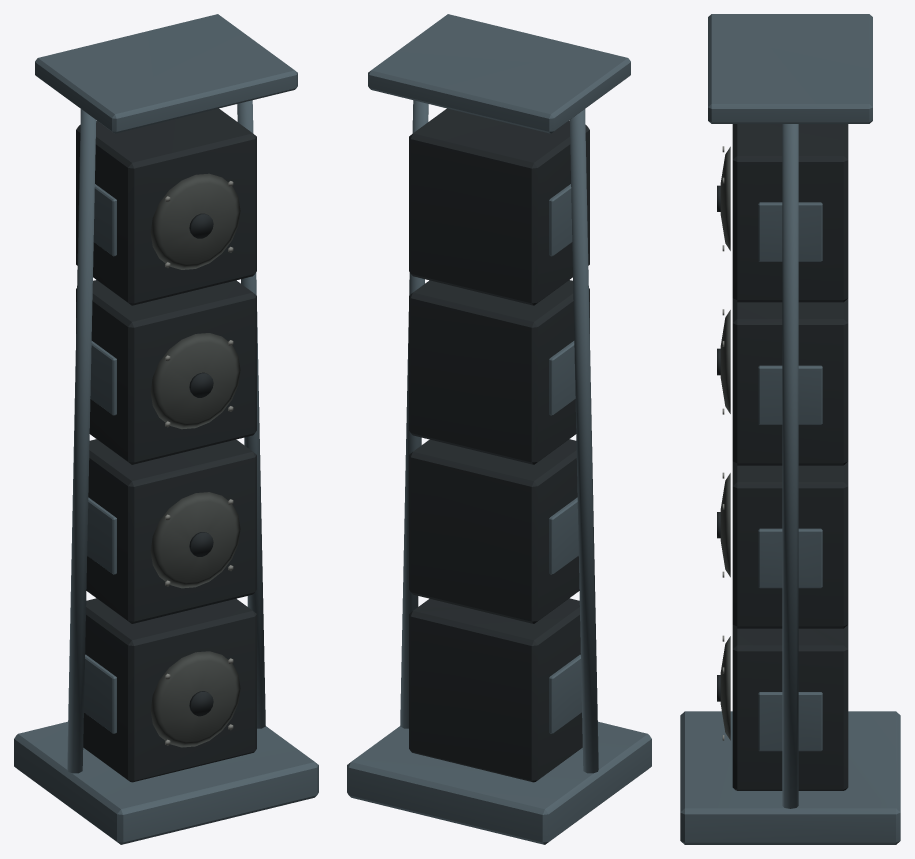
Rendered from speaker-02-tower.glb.
The picture shows the model from 3 angles, left to right: view 1: azimuth 30°, elevation 25°; view 2: azimuth 150°, elevation 25°; view 3: azimuth 270°, elevation 25°; orthographic projection. The views are drawn at different scales.
Visible parts, largest first — view 1: speaker_tower_geometry; view 2: speaker_tower_geometry; view 3: speaker_tower_geometry.
Part boxes in pixels (<box>): speaker_tower_geometry: <box>14,14,318,844</box>; speaker_tower_geometry: <box>347,14,651,844</box>; speaker_tower_geometry: <box>680,14,900,844</box>.
Bounding box in the file's own units: 1.3 × 4.43 × 1.2.
